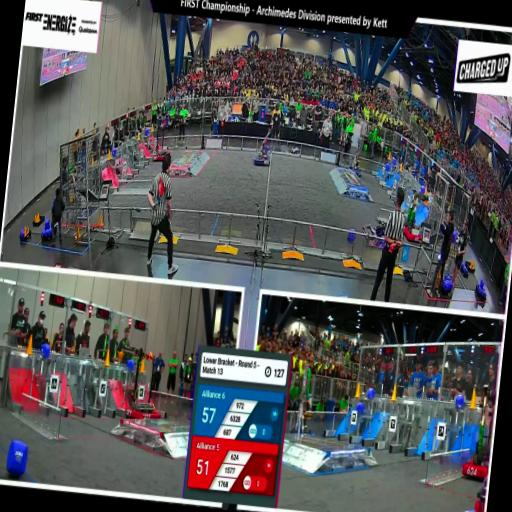robot: (458, 378, 499, 482), (120, 345, 168, 425), (286, 360, 324, 438), (63, 169, 100, 230), (403, 185, 432, 246), (359, 214, 394, 254), (252, 122, 275, 169), (345, 134, 368, 178), (150, 122, 174, 164), (469, 476, 488, 512)
